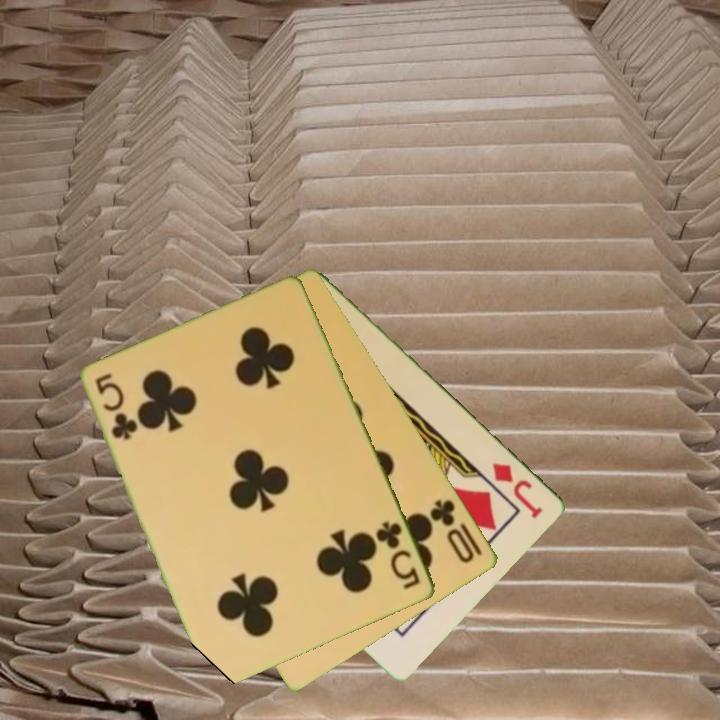10c: (426, 496, 486, 567)
5c: (372, 518, 424, 593), (92, 369, 139, 443)
Jd: (489, 459, 546, 522)
